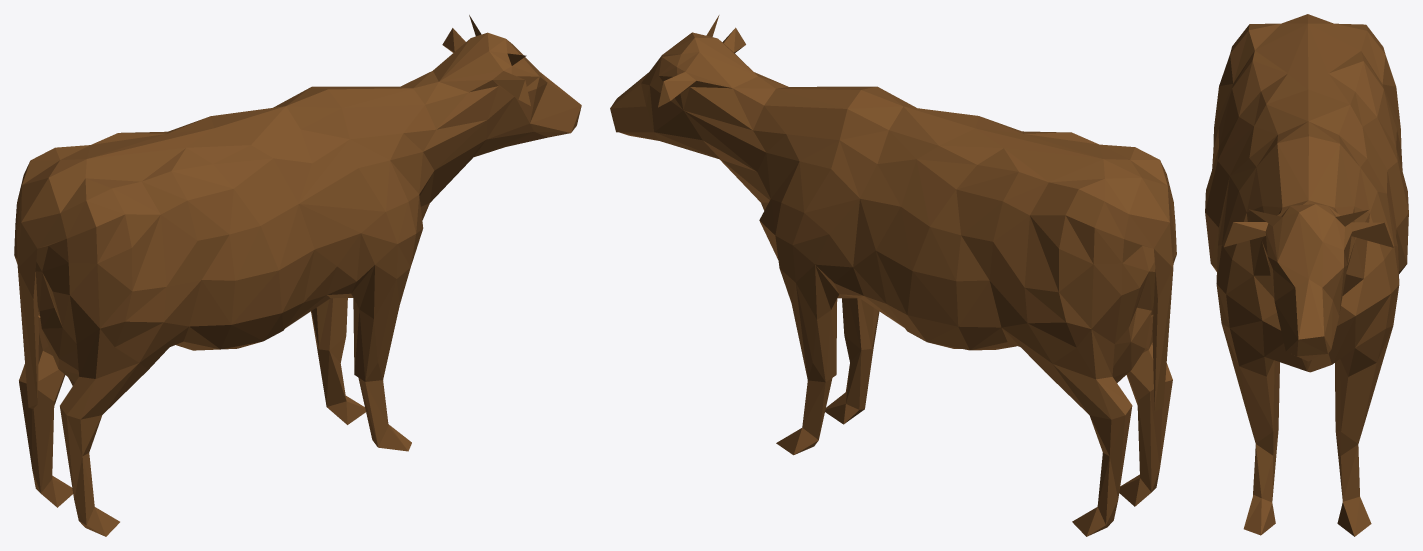
The model's file is sapinew.fbx.
3 views of the same model, side by side, from view 1: azimuth 30°, elevation 25°; view 2: azimuth 150°, elevation 25°; view 3: azimuth 270°, elevation 25° (orthographic). The views are drawn at different scales.
Visible parts, largest first — view 1: Cube; view 2: Cube; view 3: Cube.
Boxes of the visible parts, box(x1,y1,x2,y2) form: Cube: box(14, 15, 581, 536); Cube: box(610, 15, 1176, 536); Cube: box(1205, 14, 1408, 536).
Size of the model in its own units: 750 by 486 by 226.
